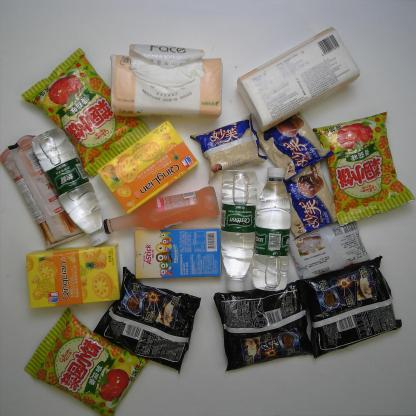Alcohol: (104, 185, 220, 235)
Dessert: (0, 134, 88, 250), (97, 119, 199, 214), (26, 244, 122, 310), (266, 158, 340, 240), (255, 110, 334, 184), (189, 113, 268, 184), (133, 228, 222, 280)
Drink: (29, 125, 110, 248), (252, 166, 292, 292), (218, 169, 258, 294)
Instant Noodles: (93, 267, 202, 375), (296, 255, 402, 359), (214, 284, 315, 372)
Puffed Food: (20, 47, 150, 178), (24, 307, 149, 415), (312, 112, 416, 228)
Seasoner: (289, 219, 370, 280)
Tissue: (236, 25, 361, 133), (110, 43, 224, 119)
